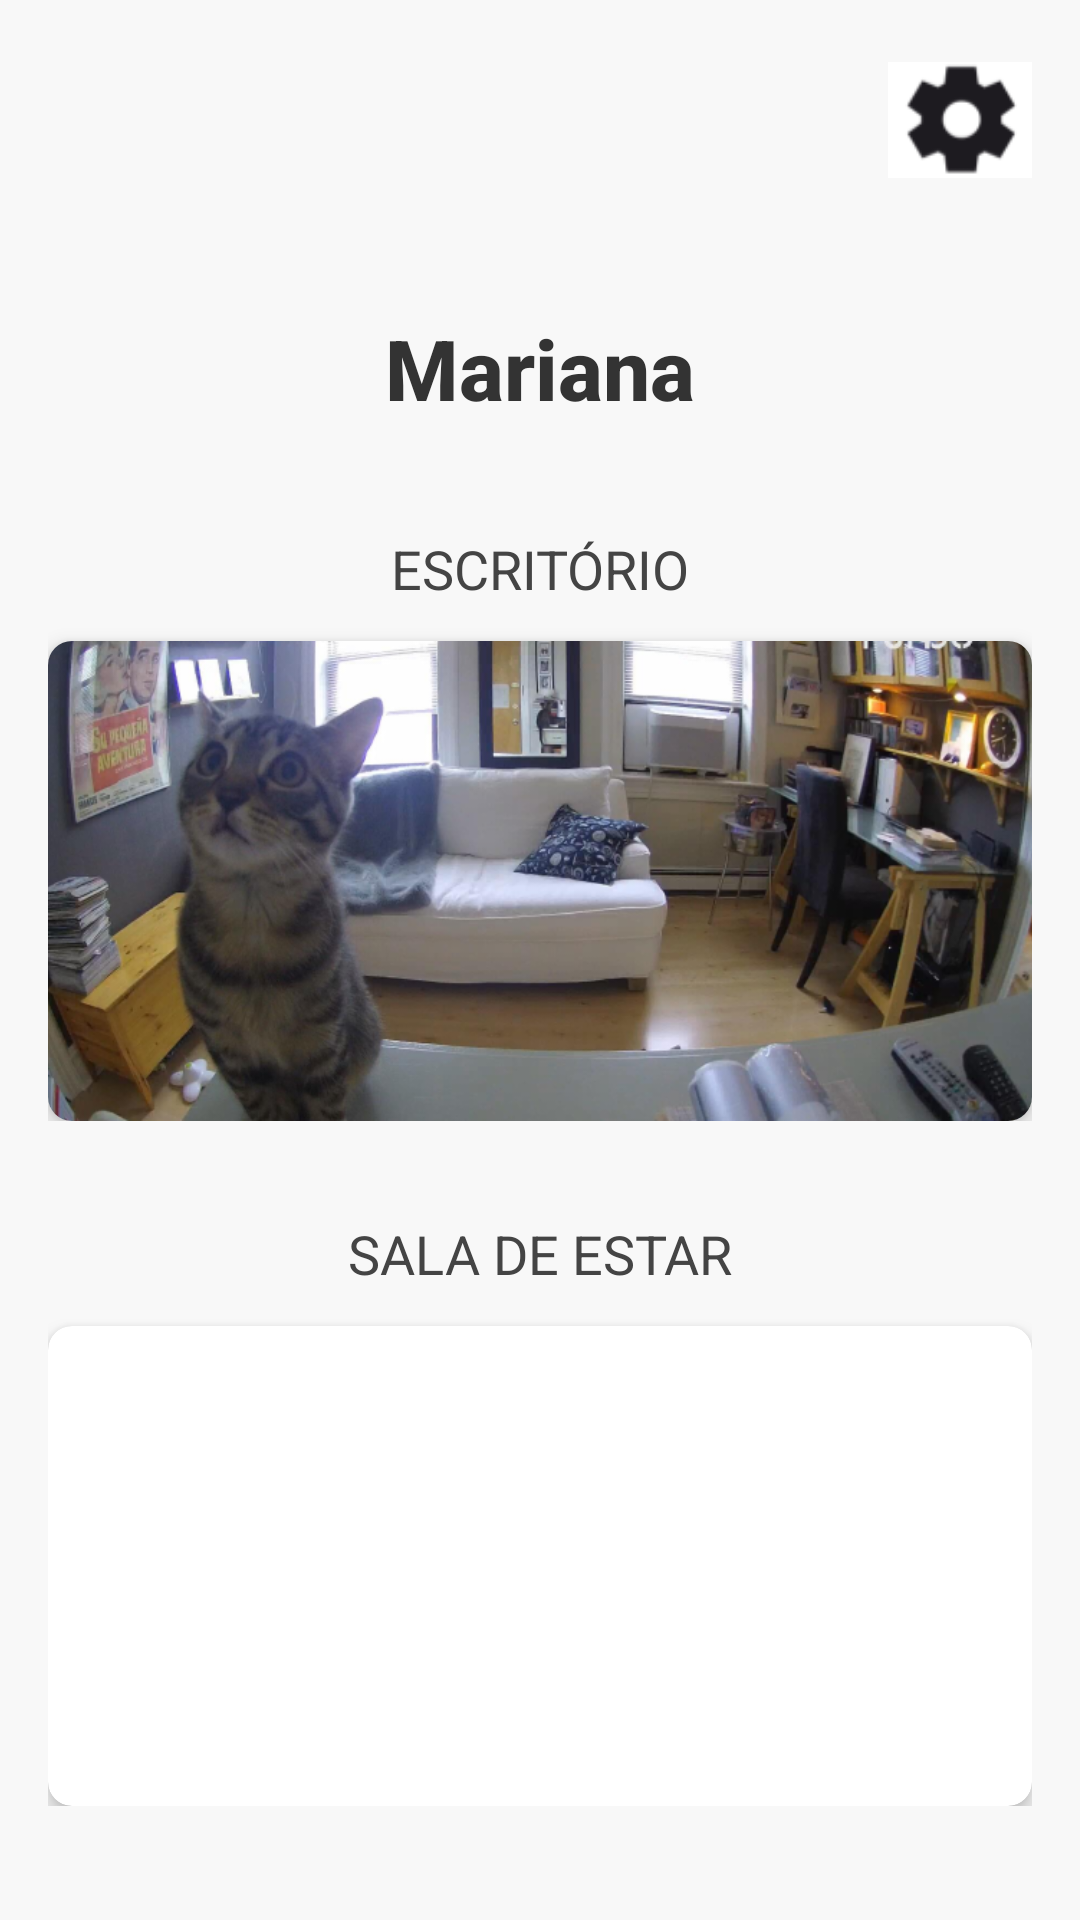

Screen size 1080px×1920px. Icon name, then its center in pixels as (x,y):
Configurações do aplicativo: (961,120)
